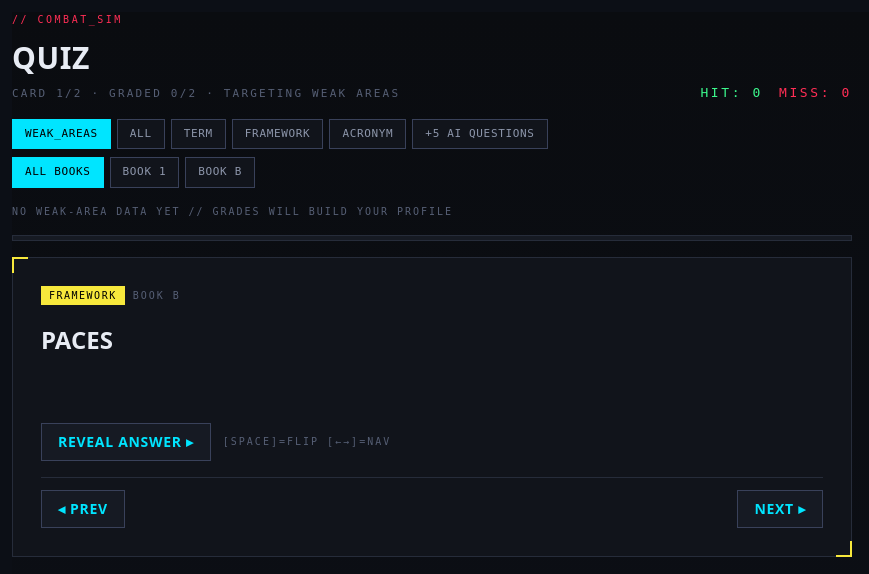
Test case: generating AI questions clears an active book filter
Expected: the text "PACES" is shown, [41, 322, 113, 356]
Click the button "Book 1".
click(144, 172)  # box [110, 157, 179, 188]
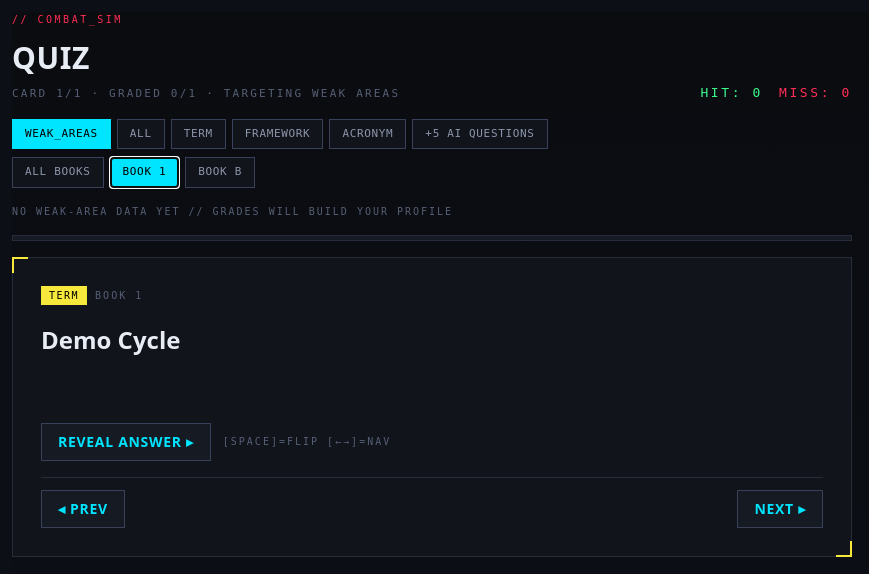
Now the text "CARD 1/1 · GRADED 0/1 · TARGETING WEAK AREAS" is shown, box [12, 86, 400, 102]
Click the button "+5 AI QUESTIONS".
click(480, 134)  # box [412, 118, 548, 149]
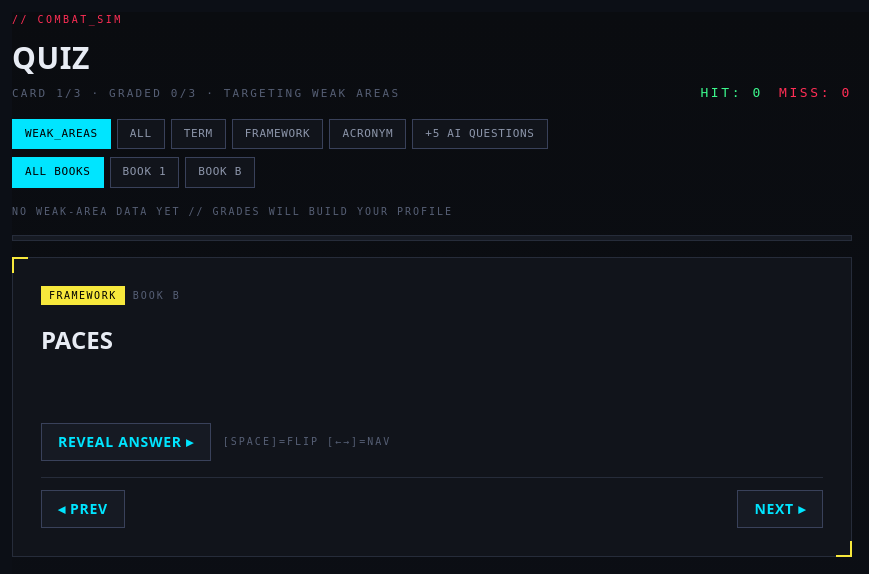
Now the text "CARD 1/3 · GRADED 0/3 · TARGETING WEAK AREAS" is shown, box [12, 86, 400, 102]
